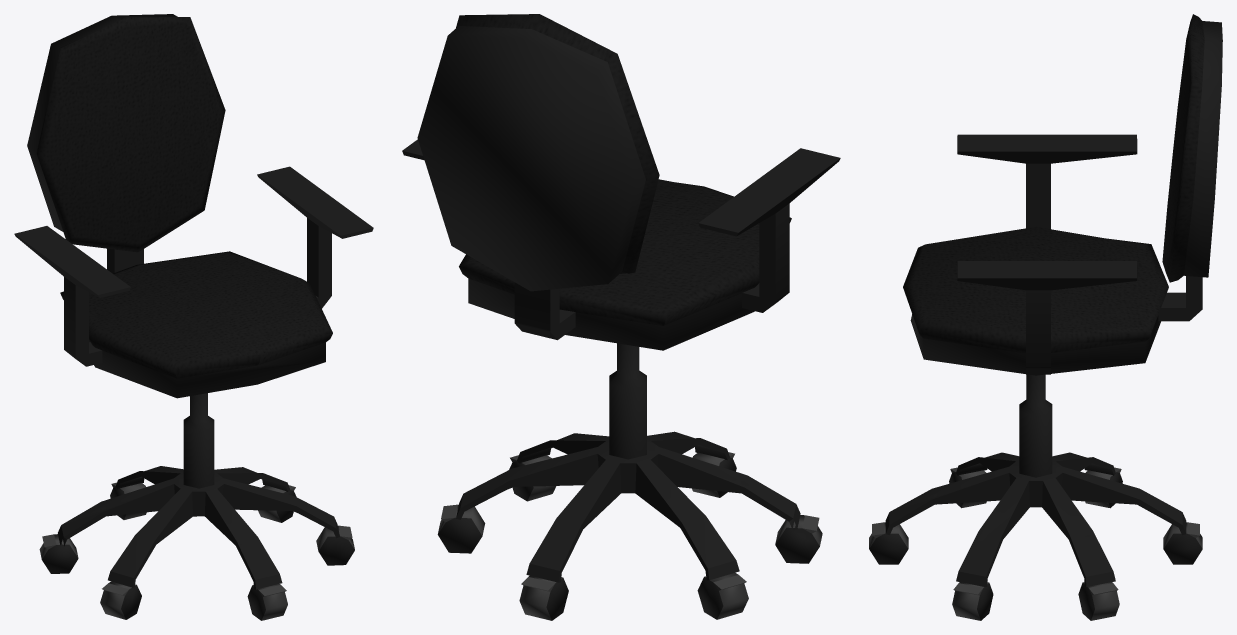
The model's file is Computer_Chair_C.FBX.
The picture shows the model from 3 angles, left to right: view 1: azimuth 30°, elevation 25°; view 2: azimuth 150°, elevation 25°; view 3: azimuth 270°, elevation 25°; orthographic projection. The views are drawn at different scales.
Visible parts, largest first — view 1: Computer_chair; view 2: Computer_chair; view 3: Computer_chair.
Boxes of the visible parts, x1=… form: Computer_chair: x1=14, y1=14, x2=373, y2=620; Computer_chair: x1=402, y1=14, x2=840, y2=620; Computer_chair: x1=869, y1=14, x2=1222, y2=620.
Size of the model in its own units: 83.09 by 142 by 86.34.
